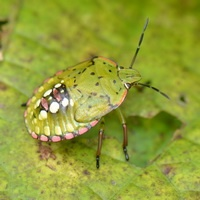insect: (24, 19, 169, 141)
